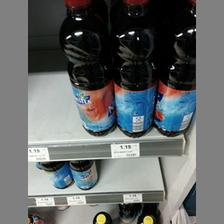Saft: (57, 0, 116, 135), (106, 0, 157, 136), (156, 0, 195, 136)
